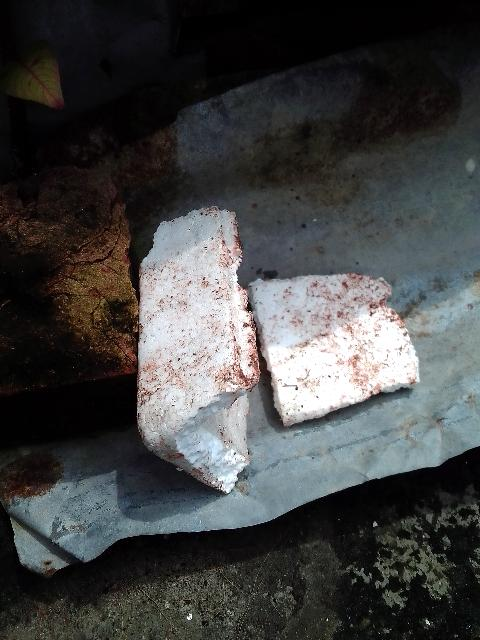cocksheet: (117, 211, 259, 481), (253, 237, 438, 426)
